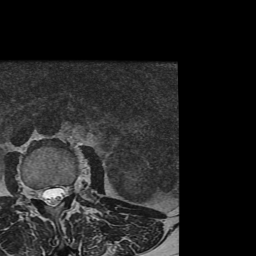CCS_normal: (49, 177, 57, 212)
LFS_normal: (65, 176, 74, 201)
LLS_normal: (56, 178, 65, 207)
RFS_normal: (32, 178, 41, 205)
RLS_normal: (41, 180, 48, 206)
